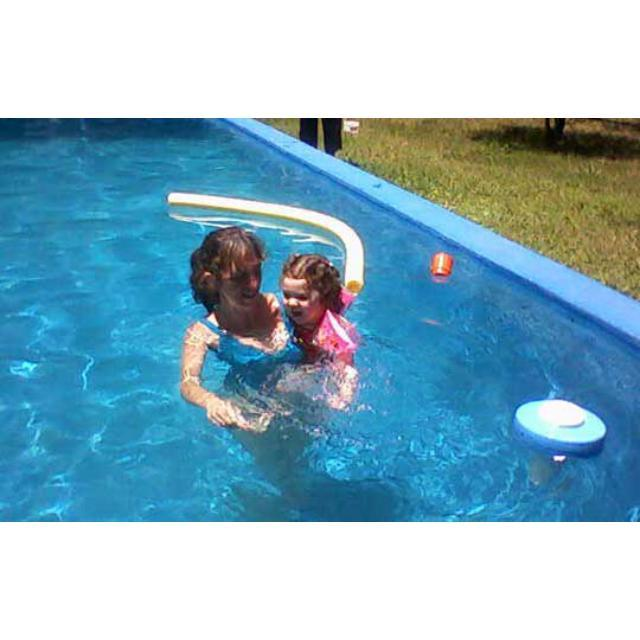human: (180, 222, 308, 434), (284, 253, 358, 390)
